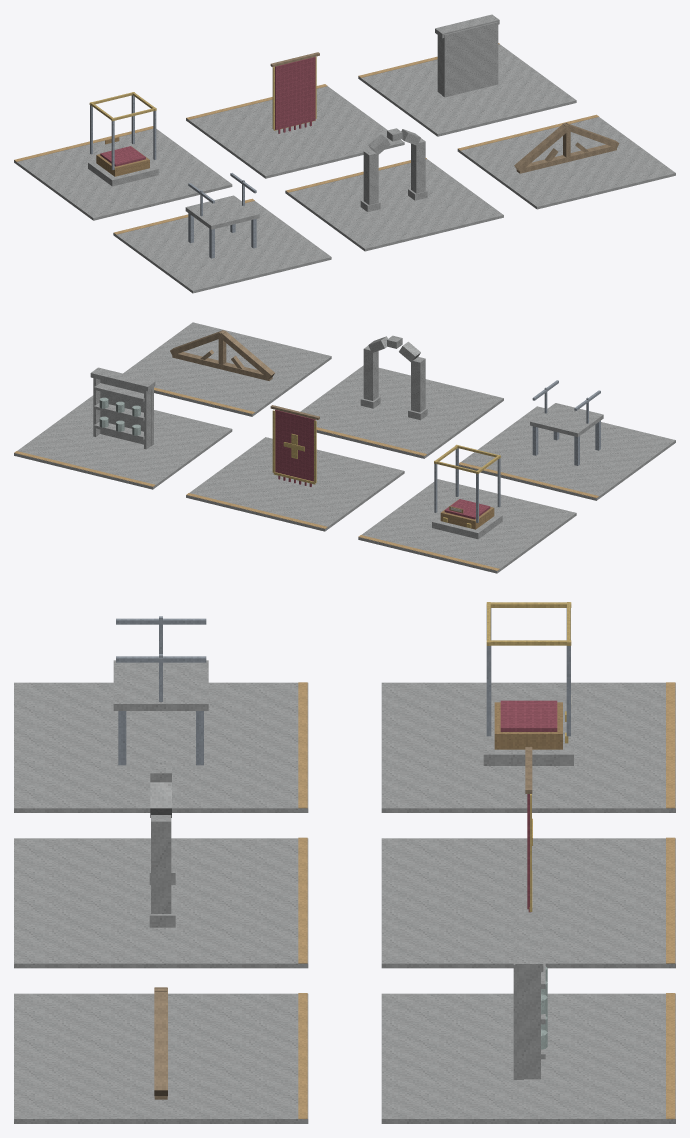
The model's file is level_blockout_kit_castle_p07.glb.
3 renders of one model, top to bottom at view 1: azimuth 30°, elevation 25°; view 2: azimuth 150°, elevation 25°; view 3: azimuth 270°, elevation 25°, orthographic. The views are drawn at different scales.
Visible parts, largest first — view 1: level_blockout_kit_castle_p07; view 2: level_blockout_kit_castle_p07; view 3: level_blockout_kit_castle_p07.
Part boxes in pixels (box(x1,y1,x2,y2)): level_blockout_kit_castle_p07: box(14, 14, 675, 293); level_blockout_kit_castle_p07: box(14, 322, 675, 573); level_blockout_kit_castle_p07: box(14, 602, 675, 1123).
Bounding box in the file's own units: 19.65 × 2.88 × 12.6.
9 materials, 9 textured.
